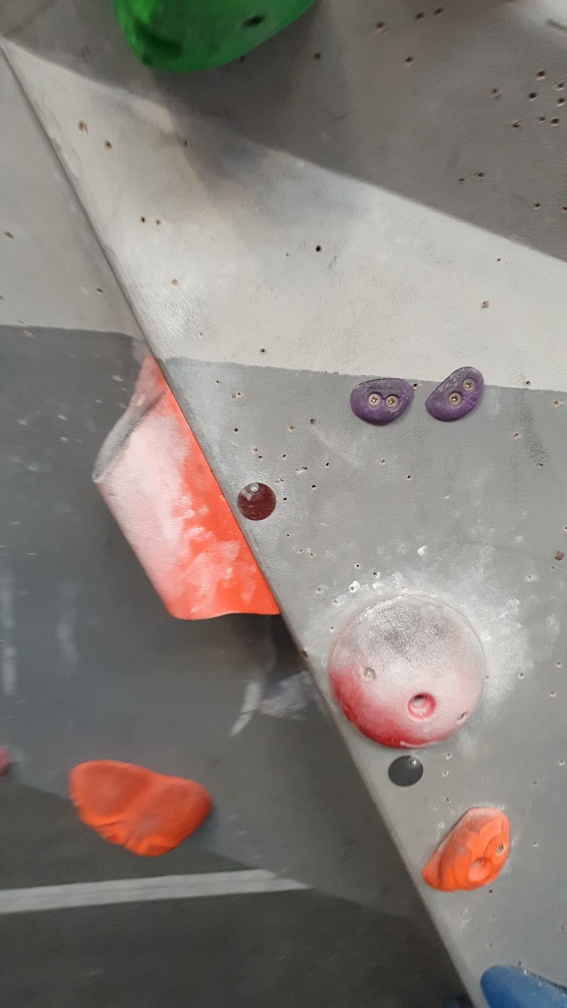Hand Start: (234, 477, 282, 524), (385, 751, 427, 791)
Pinch: (88, 352, 288, 627)
Sloper: (327, 589, 488, 743)
